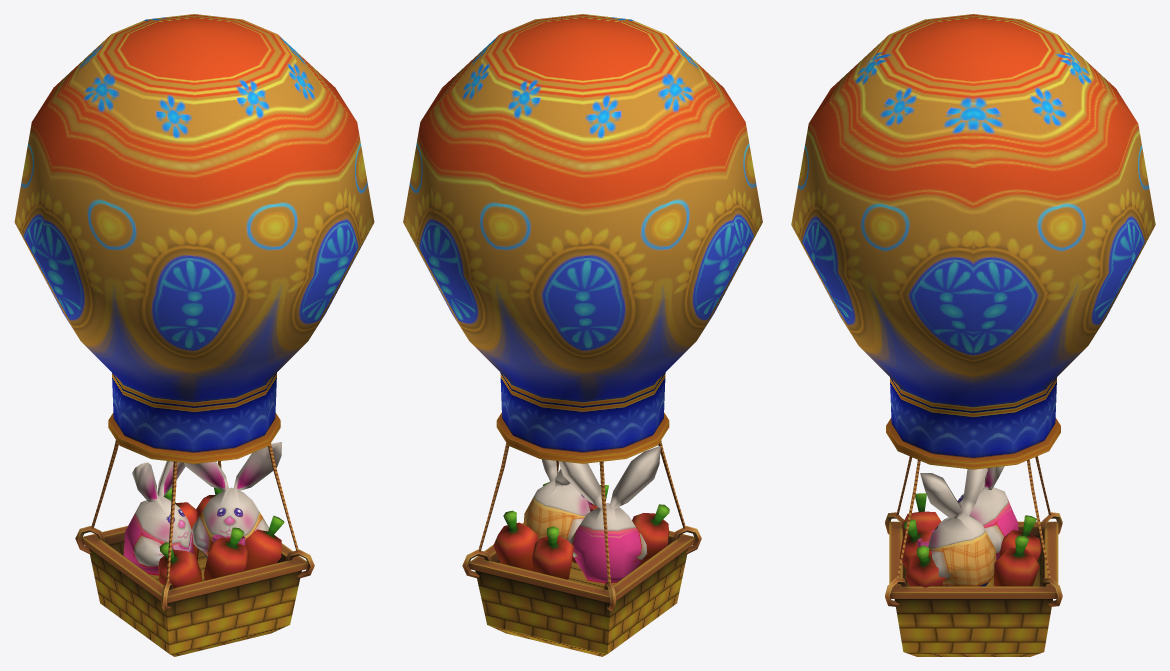
File: Balloon_01_F.FBX
3 renders of one model, left to right at view 1: azimuth 30°, elevation 25°; view 2: azimuth 150°, elevation 25°; view 3: azimuth 270°, elevation 25°, orthographic.
Parts seen in each view (by area): view 1: Balloon_01, Balloon_01_F, bunny2, bunny1; view 2: Balloon_01, bunny1, Balloon_01_F, bunny2; view 3: Balloon_01, bunny2, Balloon_01_F, bunny1.
Boxes of the visible parts, x1=… form: Balloon_01: x1=14, y1=14, x2=374, y2=656; Balloon_01_F: x1=158, y1=487, x2=284, y2=588; bunny2: x1=184, y1=442, x2=281, y2=557; bunny1: x1=123, y1=461, x2=193, y2=575; Balloon_01: x1=403, y1=14, x2=762, y2=656; bunny1: x1=558, y1=445, x2=660, y2=583; Balloon_01_F: x1=493, y1=482, x2=669, y2=579; bunny2: x1=523, y1=459, x2=593, y2=541; Balloon_01: x1=791, y1=14, x2=1155, y2=656; bunny2: x1=917, y1=468, x2=996, y2=586; Balloon_01_F: x1=899, y1=493, x2=1042, y2=587; bunny1: x1=957, y1=466, x2=1018, y2=560.
Bounding box in the file's own units: 203 × 370 × 203.
